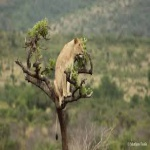Animal: (52, 37, 81, 107)
Forest: (7, 6, 145, 140)
